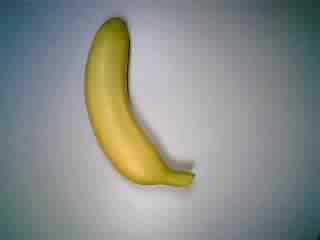banana: (77, 11, 197, 196)
